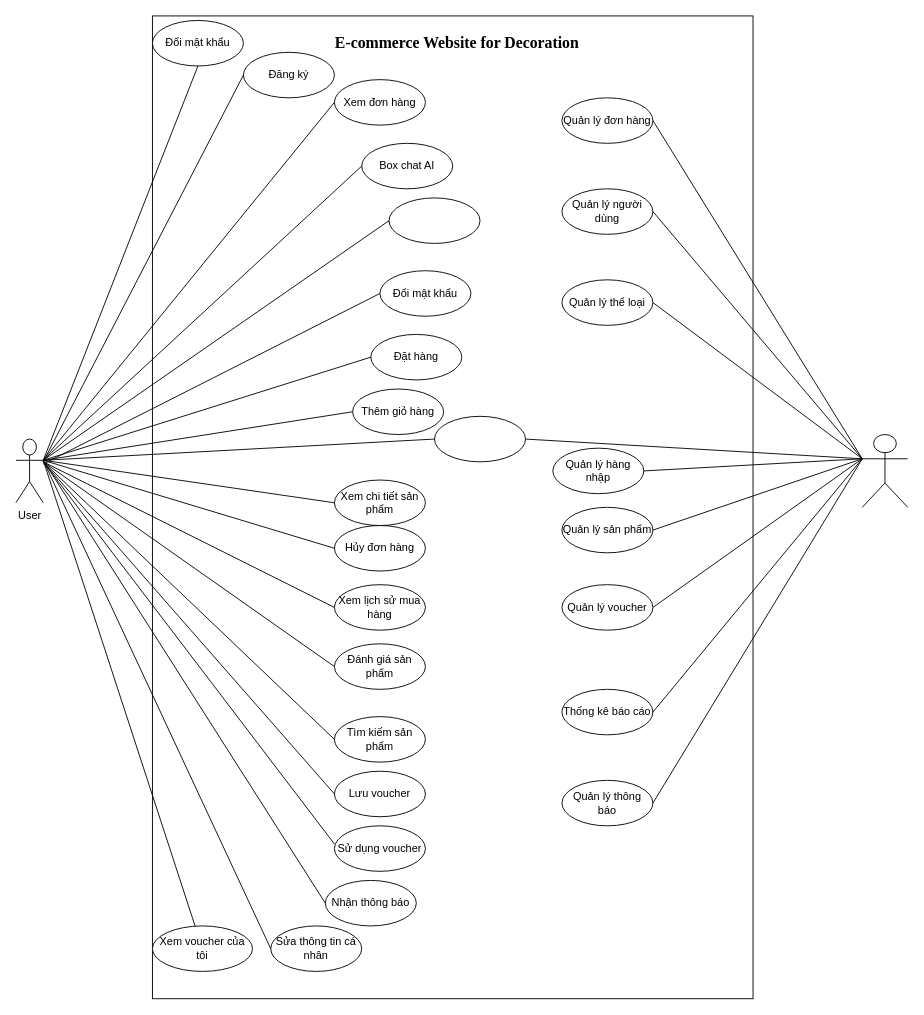
This 924x1015 diagram has some shape labels left out. The shapes that lost their labels are listed below. From the top down, each one's centre as x and y in pixels, then its label:
the point at 434,220: Lọc sản phẩm
the point at 480,438: Đăng nhập
the point at 884,470: Admin
